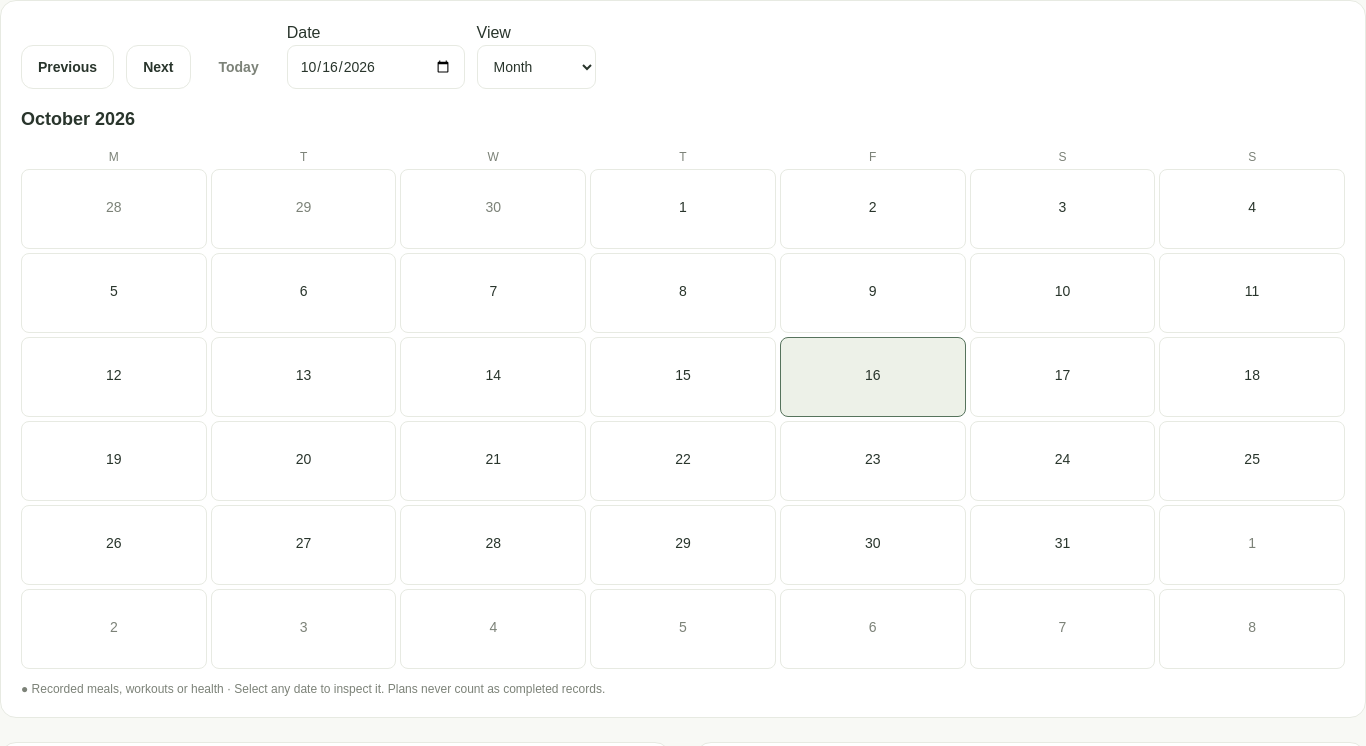
it: selecting a date synchronizes recorded nutrition, health and diary links without inventing zeros
Type "2026-10-17" into the date field named "Calendar date" at (376, 67), box 287,45 -> 464,89
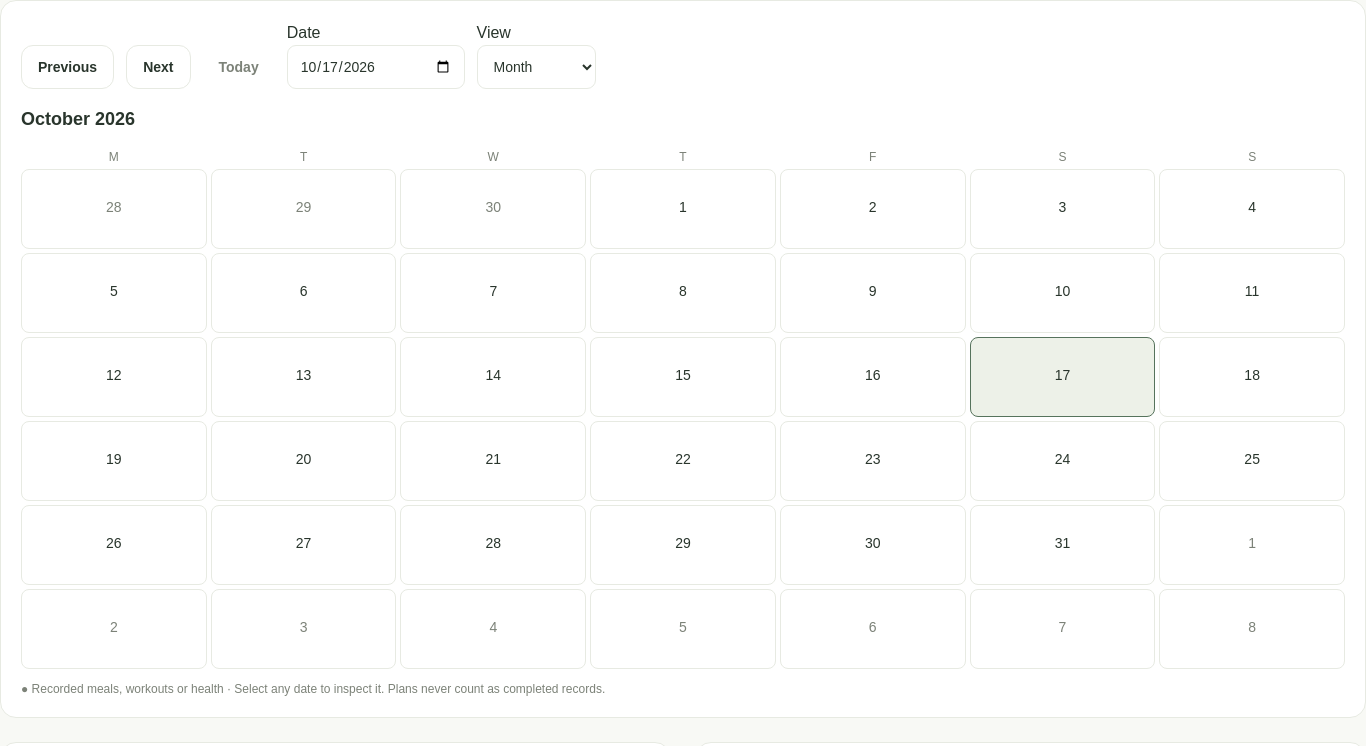
Select "Week" in the dropdown named "Calendar view" at (536, 67), box 476,45 -> 596,89
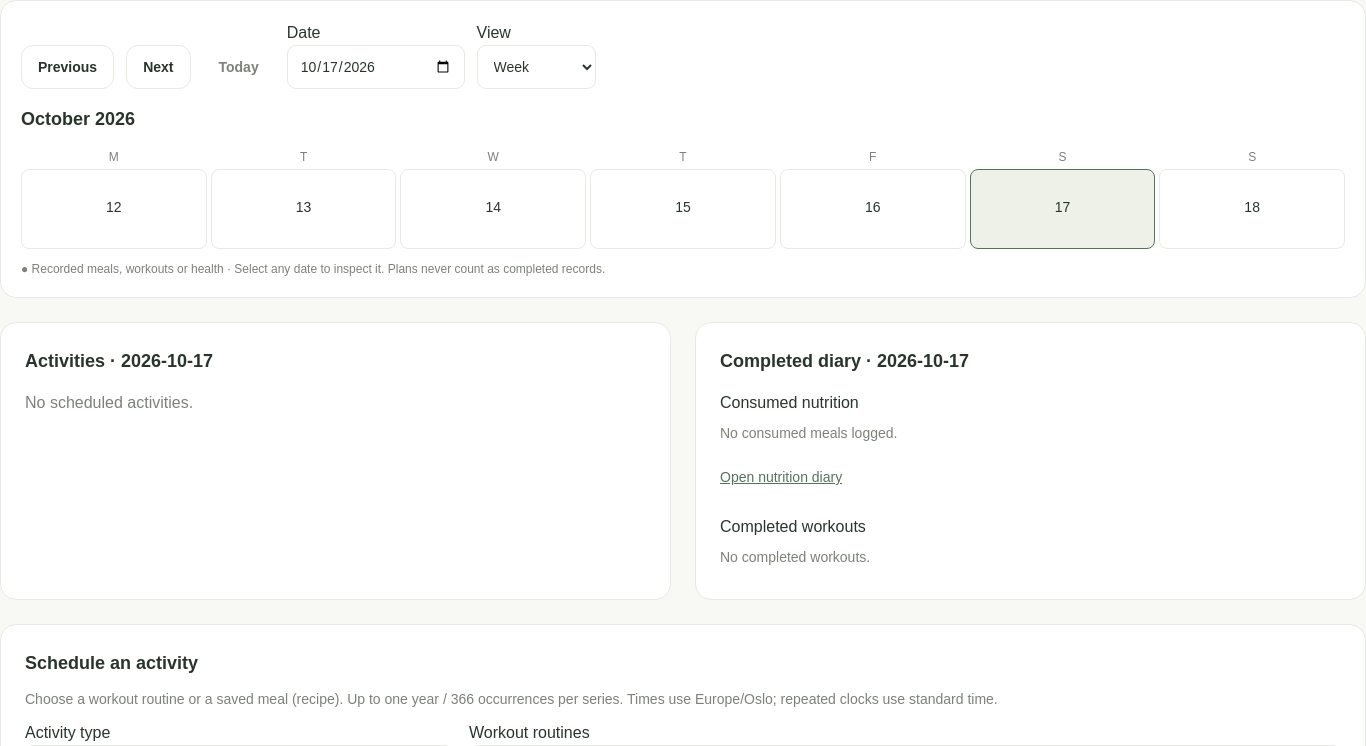
Click the button with aria-label "Next week" at (158, 67), box 126,45 -> 190,89
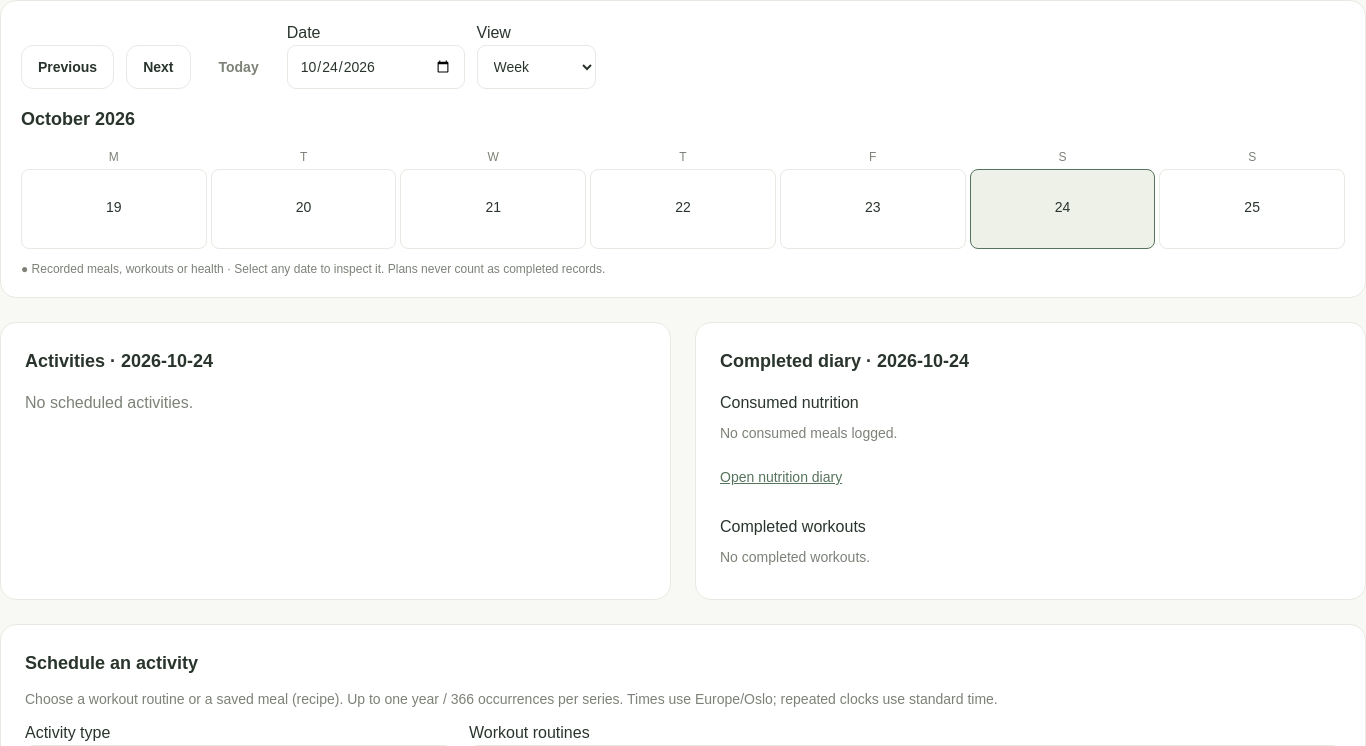
Expected: the date field named "Calendar date" holds "2026-10-24", 287,45 -> 464,89
